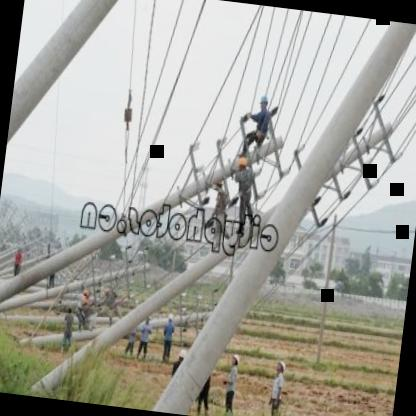helmet: (273, 356, 286, 378), (236, 156, 248, 176), (230, 350, 240, 374), (259, 91, 269, 114), (177, 344, 187, 367), (165, 311, 174, 327)
